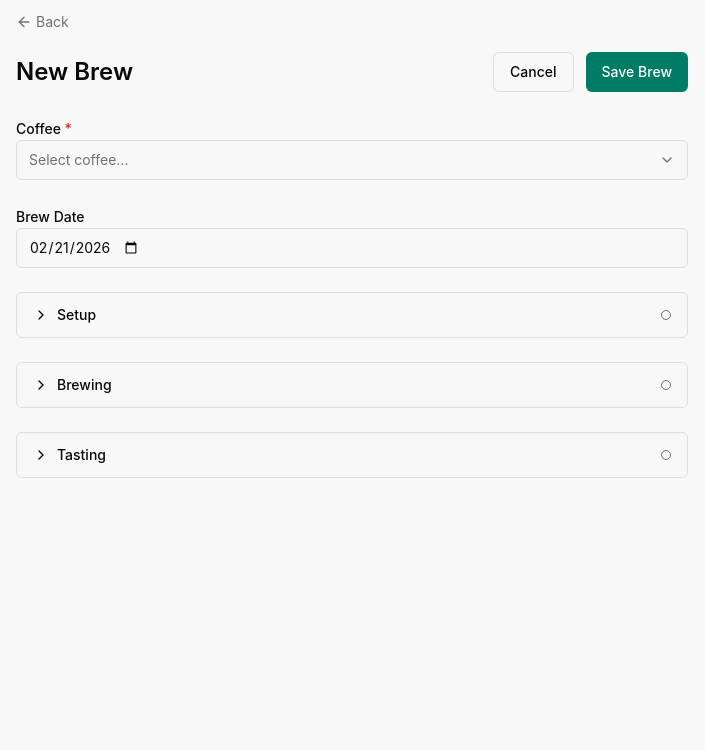
Test: BrewFormPage › expands Brewing section with pour controls
Expected: the heading "New Brew" is shown, [16,56,133,88]
Step 1. Click the button "Brewing" → (84, 384), box [17,363,687,407]
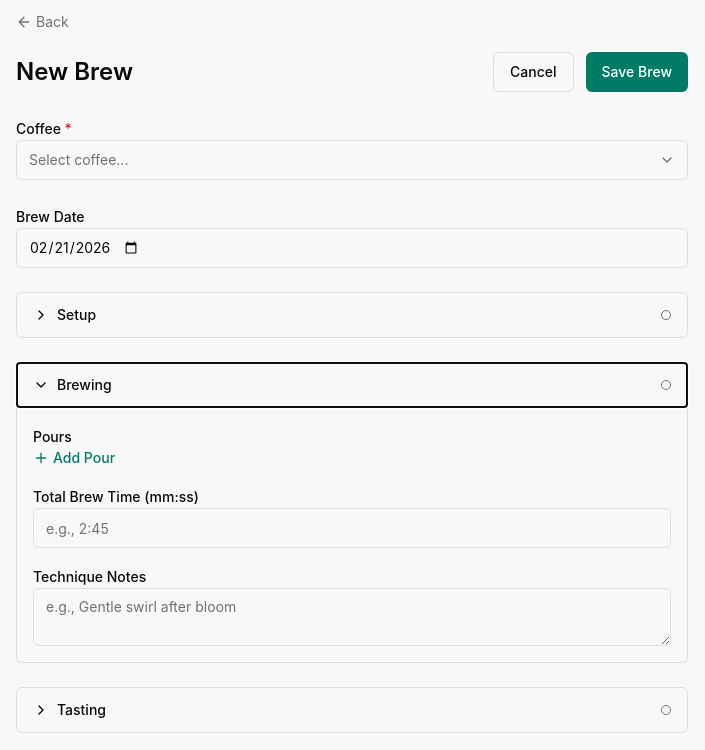
Expected: the text "Pours" is shown, [33,428,72,445]
Expected: the button "Add Pour" is shown, [33,448,115,468]
Expected: the field labelled "Total Brew Time (mm:ss)" is shown, [33,508,671,548]
